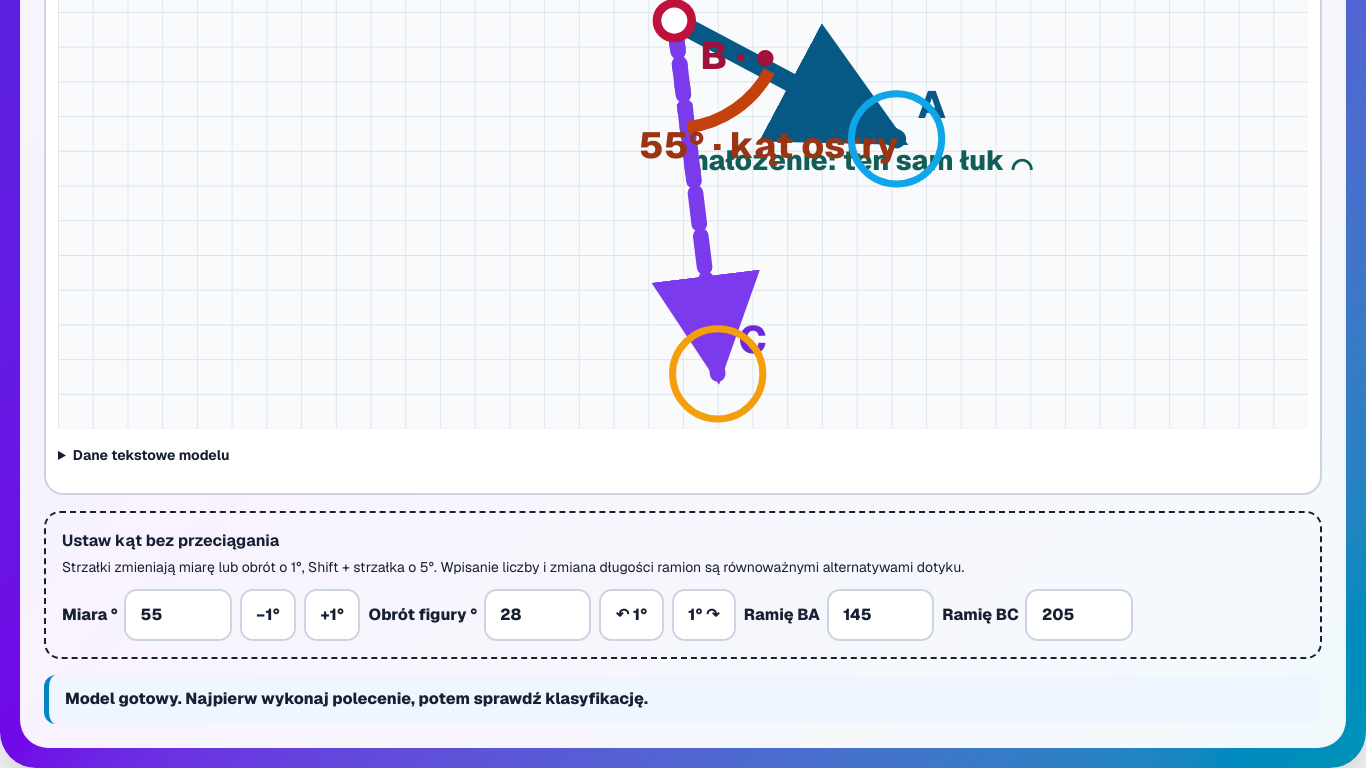
Test case: WP-S4-02A — Kąty i ich rodzaje › obraca całą figurę i zmienia długości ramion bez zmiany kąta
(page scrolled)
Replace the text in the number field named "Obrót całej figury" with "145" at (538, 615), box [484,589,591,641]
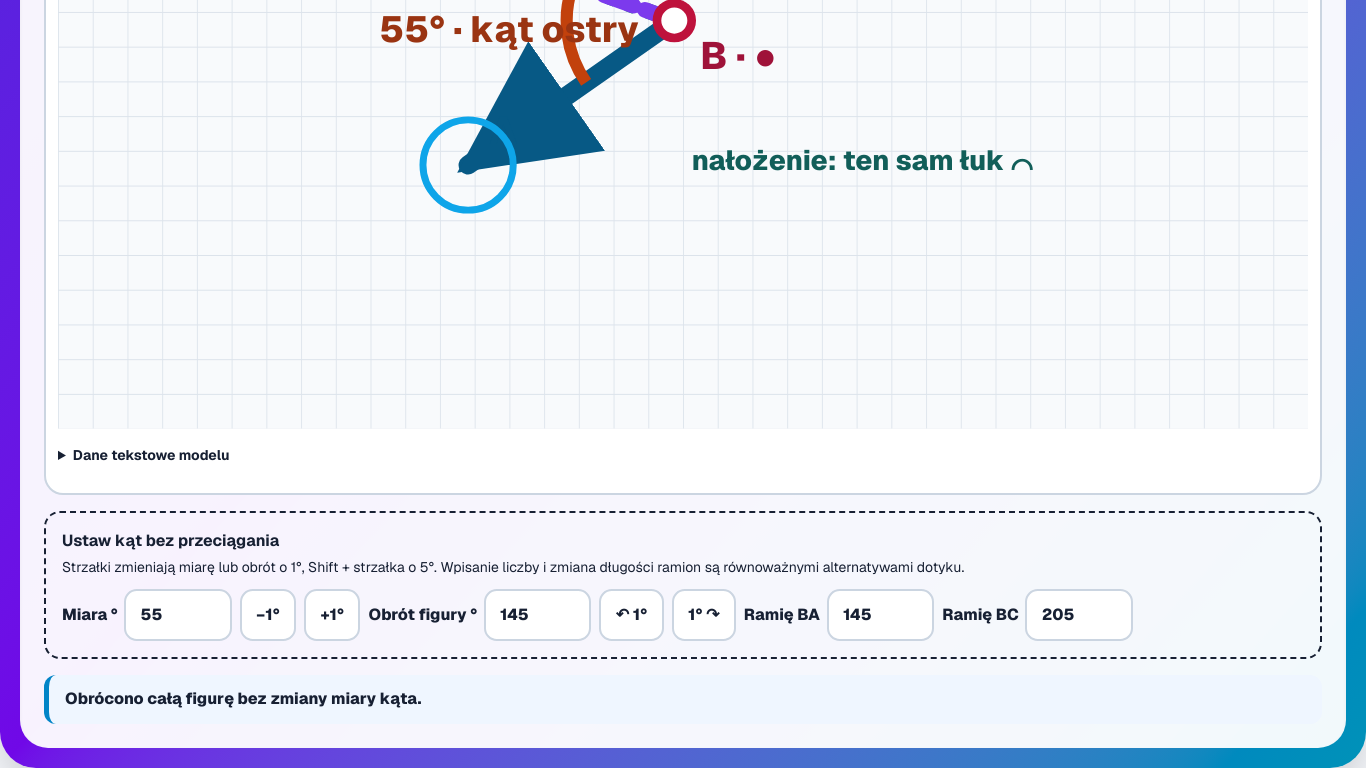
Replace the text in the number field named "Długość ramienia BA" with "210" at (880, 615), box [826,589,934,641]
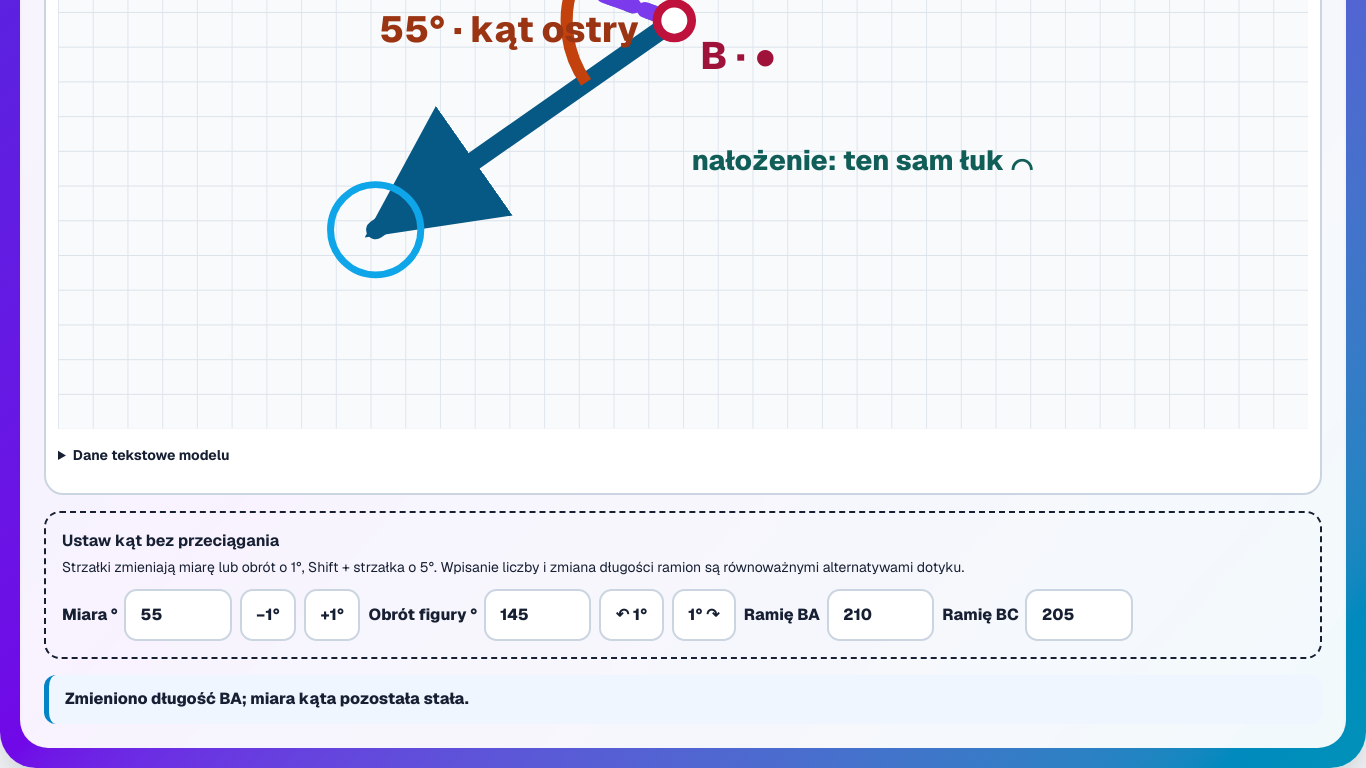
Replace the text in the number field named "Długość ramienia BC" with "75" at (1079, 615), box [1025,589,1133,641]
(page scrolled)
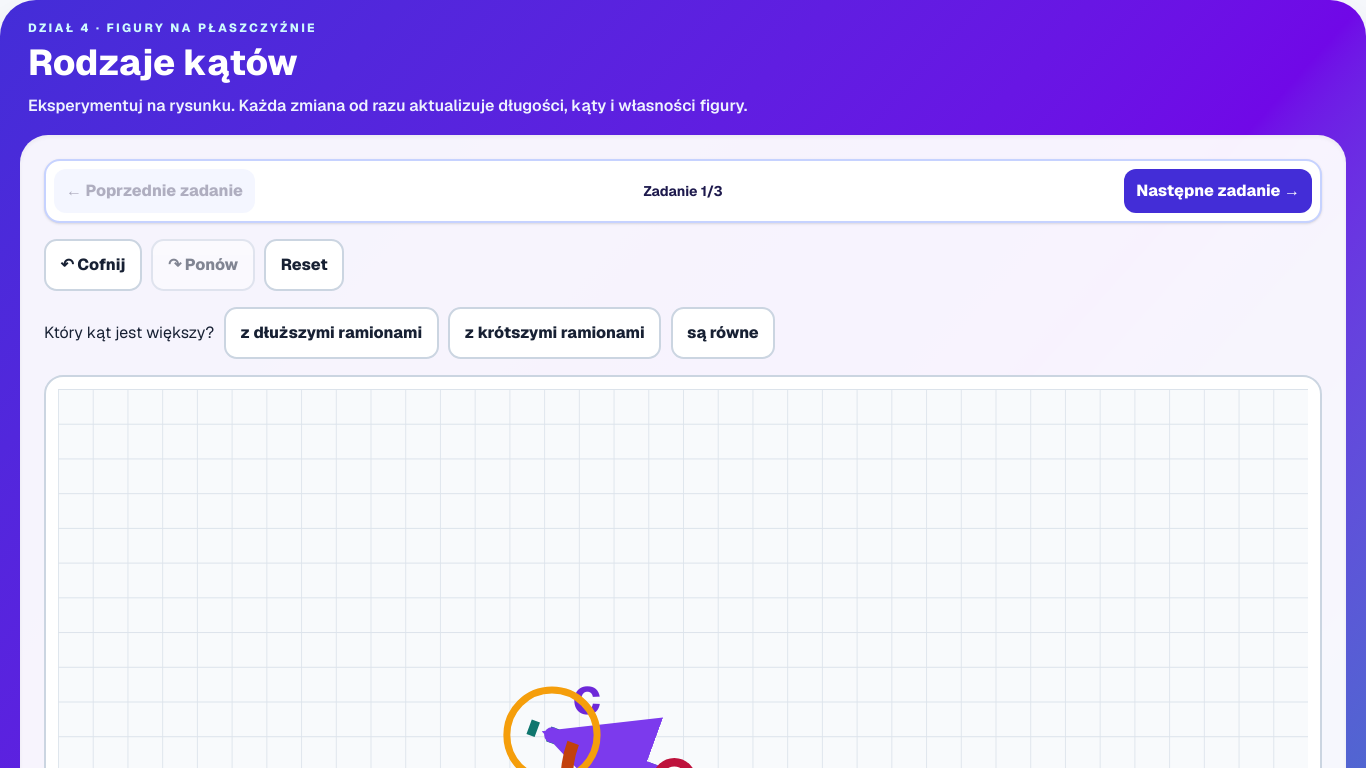
Click the button "są równe" at (723, 333), box [671,307,775,359]
(page scrolled)
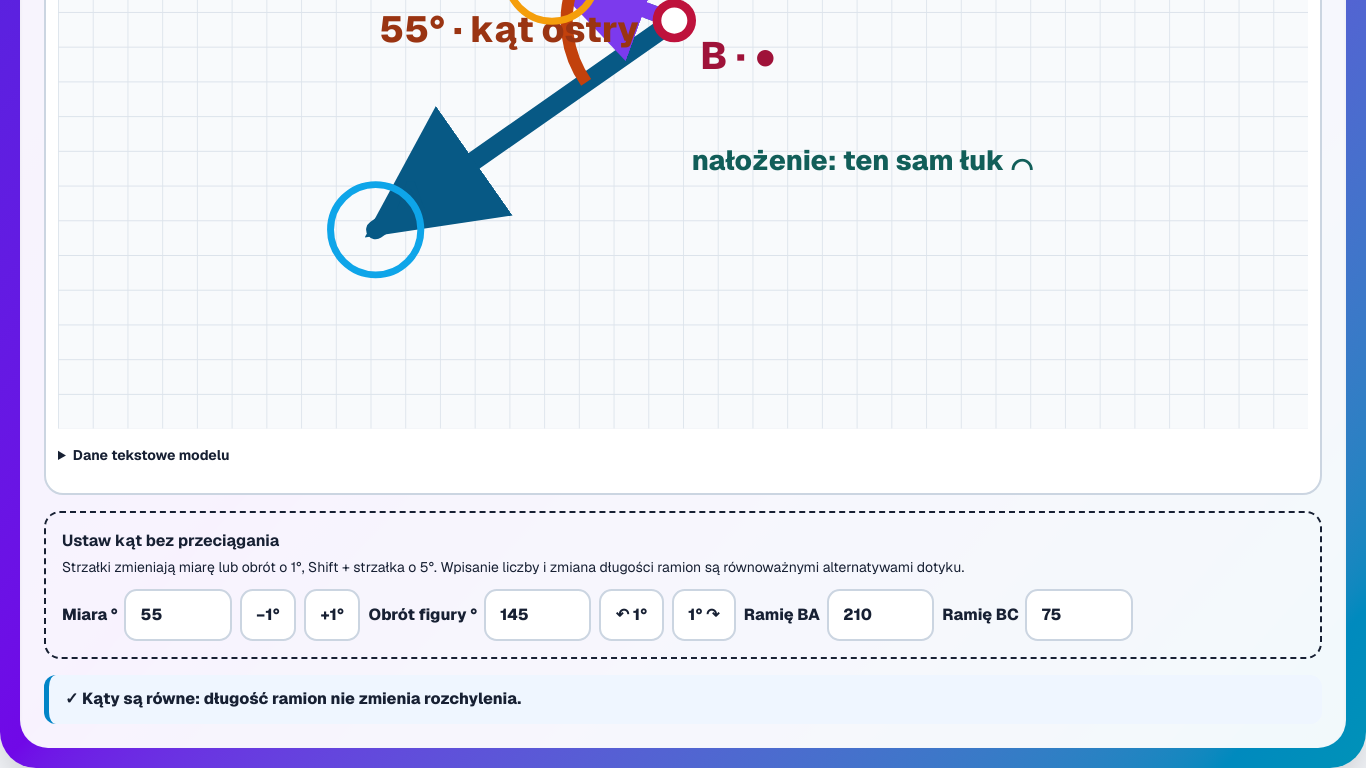
expect the message shows "długość ramion nie zmienia rozchylenia": met, box [65,688,521,709]
